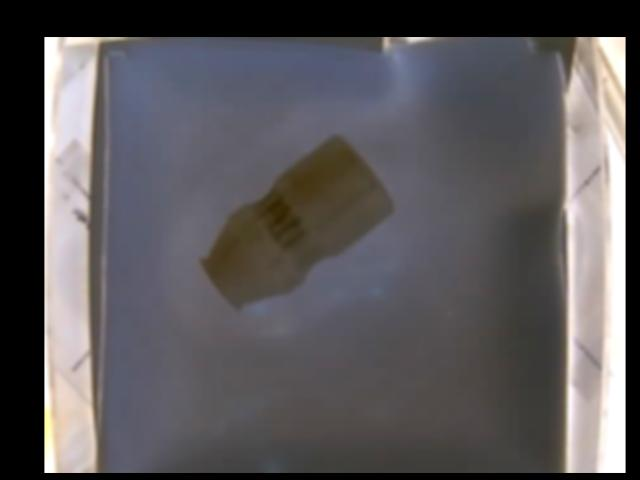Bottle: (197, 134, 395, 311)
